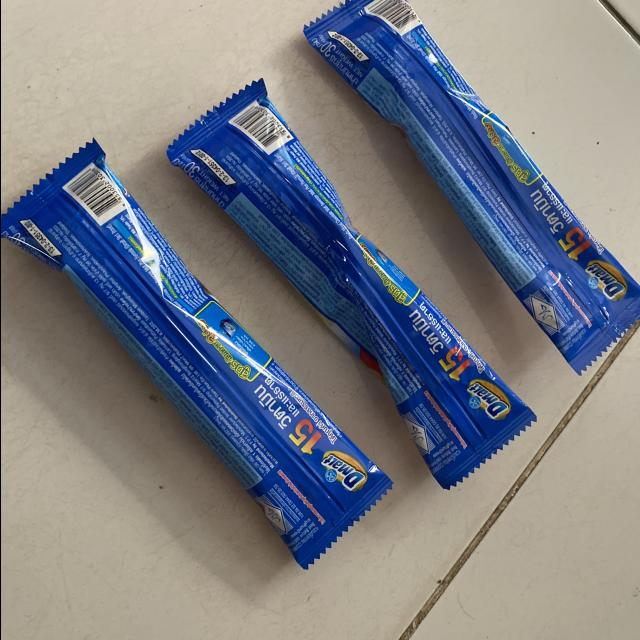plastik: (0, 141, 390, 568), (166, 80, 535, 488), (303, 0, 640, 373)
